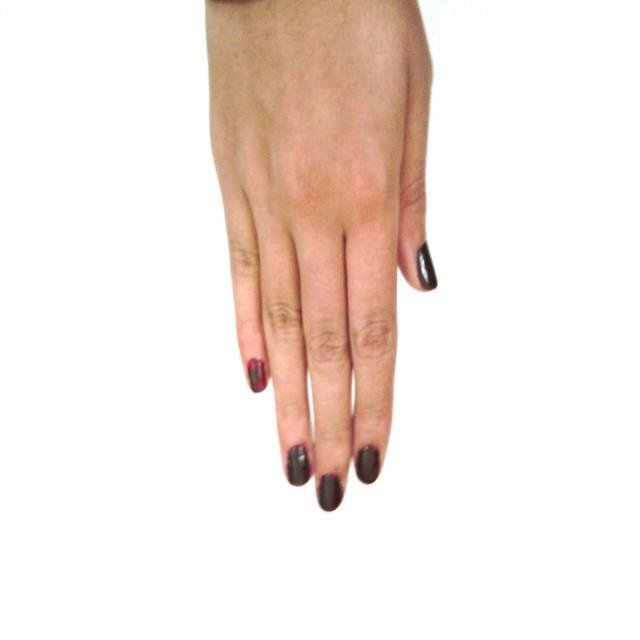Fingernail: (287, 443, 311, 486), (417, 242, 438, 290), (355, 445, 380, 484), (319, 474, 342, 512), (248, 359, 268, 392)
